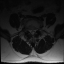CCS_normal: (31, 27, 33, 36)
LFS_stenosis: (35, 26, 37, 32)
LLS_normal: (33, 27, 35, 36)
RFS_normal: (27, 27, 29, 33)
RLS_normal: (29, 27, 31, 35)
